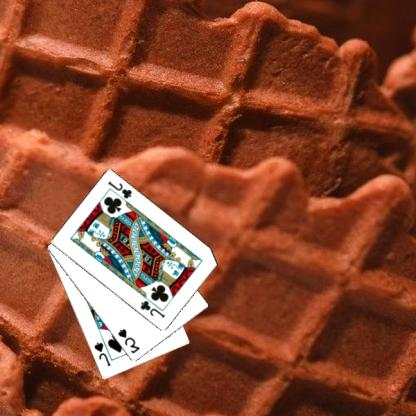3S: (117, 326, 142, 355)
JC: (107, 178, 136, 200), (140, 298, 168, 320)
JS: (93, 340, 114, 368)
